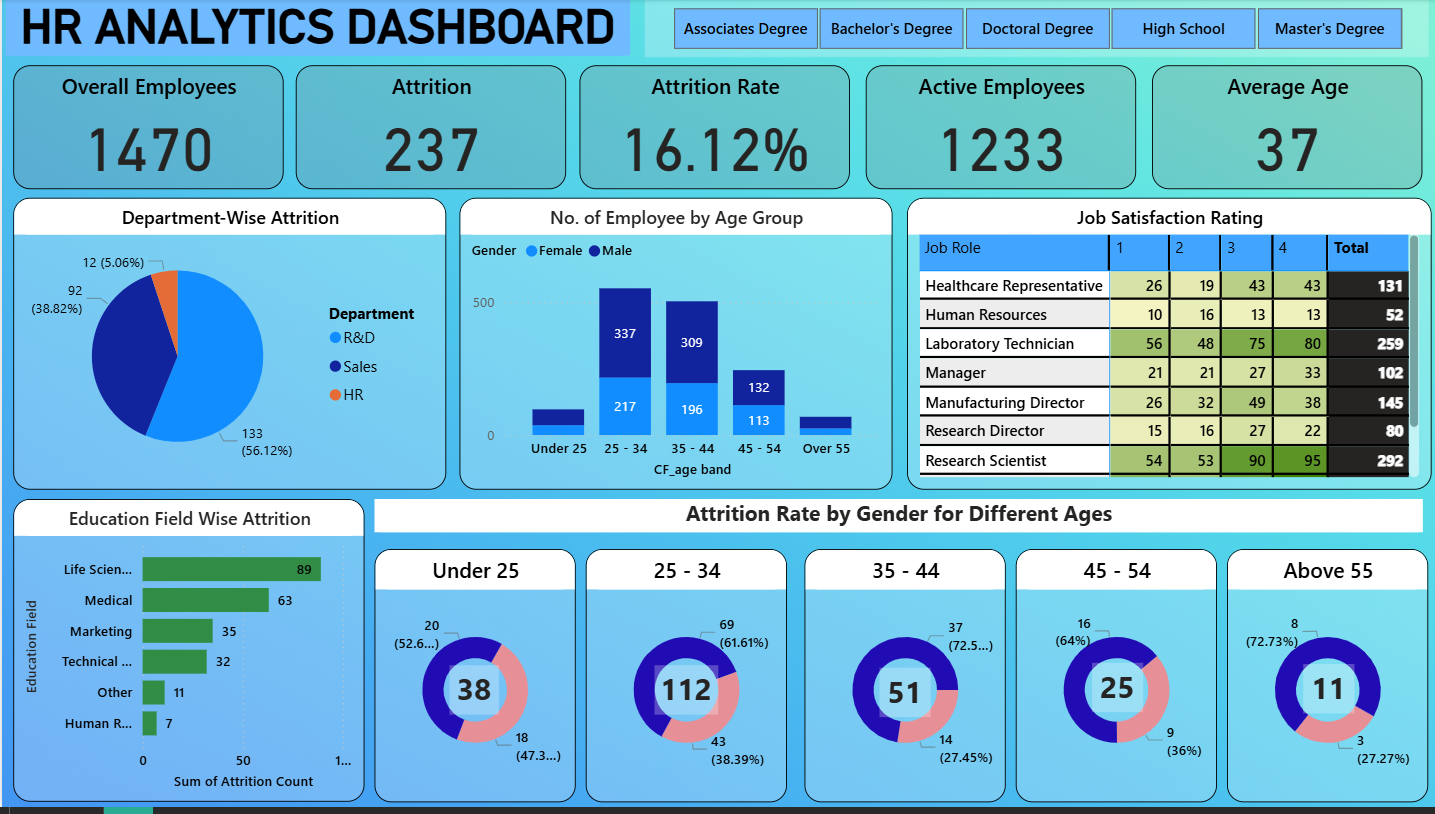

The page's visual inventory and layout, read from the dashboard file:
{"tool":"powerbi","page":{"name":"Page 1","canvas":[1280,720],"ordinal":0},"visuals":[{"type":"card","title":"Overall Employees","fields":{"Values":["Sum(HR data.Employee Count)"]},"box":[9.8,58.9,240.5,110.4],"z":0},{"type":"card","title":"Attrition","fields":{"Values":["Sum(HR data.Attrition Count)"]},"box":[261.4,58.9,240.5,110.4],"z":1000},{"type":"card","title":"Attrition Rate","fields":{"Values":["HR data.Attrition Rate"]},"box":[514.1,58.9,240.5,110.4],"z":2000},{"type":"card","title":"Active Employees","fields":{"Values":["HR data.Active Employees"]},"box":[769.3,58.9,240.5,110.4],"z":3000},{"type":"card","title":"Average Age","fields":{"Values":["Avg(HR data.Age)"]},"box":[1024.5,58.9,240.5,110.4],"z":4000},{"type":"pieChart","title":"Department-Wise Attrition","fields":{"Category":["HR data.Department"],"Y":["Sum(HR data.Attrition Count)"]},"box":[9.8,176.7,385.3,260.1],"z":5000},{"type":"columnChart","title":"No. of Employee by Age Group","fields":{"Category":["HR data.CF_age band"],"Y":["Sum(HR data.Employee Count)"],"Series":["HR data.Gender"]},"box":[407.4,176.7,385.3,260.1],"z":6000},{"type":"pivotTable","title":"Job Satisfaction Rating","fields":{"Rows":["HR data.Job Role"],"Columns":["HR data.Job Satisfaction"],"Values":["Sum(HR data.Employee Count)"]},"box":[806.1,176.7,467.5,260.1],"z":7000},{"type":"barChart","title":"Education Field Wise Attrition","fields":{"Category":["HR data.Education Field"],"Y":["Sum(HR data.Attrition Count)"]},"box":[9.8,445.4,312.9,269.9],"z":8000},{"type":"donutChart","title":"Under 25","fields":{"Category":["HR data.Gender"],"Y":["Sum(HR data.Attrition Count)"],"Series":["HR data.CF_age band"]},"box":[331.3,489.6,179.1,225.8],"z":9000},{"type":"textbox","title":"Attrition Rate by Gender for Different Ages","box":[331.3,445.4,933.7,29.4],"z":10000},{"type":"donutChart","title":"35 - 44","fields":{"Category":["HR data.Gender"],"Y":["Sum(HR data.Attrition Count)"],"Series":["HR data.CF_age band"]},"box":[714.1,489.6,179.1,225.8],"z":11000},{"type":"donutChart","title":"45 - 54","fields":{"Category":["HR data.Gender"],"Y":["Sum(HR data.Attrition Count)"],"Series":["HR data.CF_age band"]},"box":[903.1,489.6,179.1,225.8],"z":12000},{"type":"donutChart","title":"Above 55","fields":{"Category":["HR data.Gender"],"Y":["Sum(HR data.Attrition Count)"],"Series":["HR data.CF_age band"]},"box":[1090.8,489.6,179.1,225.8],"z":13000},{"type":"donutChart","title":"25 - 34","fields":{"Category":["HR data.Gender"],"Y":["Sum(HR data.Attrition Count)"],"Series":["HR data.CF_age band"]},"box":[520.2,489.6,179.1,225.8],"z":14000},{"type":"card","fields":{"Values":["Sum(HR data.Attrition Count)"]},"box":[398.8,593.9,44.2,44.2],"z":15000},{"type":"card","fields":{"Values":["Sum(HR data.Attrition Count)"]},"box":[1158.3,592.6,45.4,44.2],"z":16000},{"type":"card","fields":{"Values":["Sum(HR data.Attrition Count)"]},"box":[970.6,591.4,45.4,44.2],"z":17000},{"type":"card","fields":{"Values":["Sum(HR data.Attrition Count)"]},"box":[781.6,595.1,45.4,44.2],"z":18000},{"type":"card","fields":{"Values":["Sum(HR data.Attrition Count)"]},"box":[581.6,593.9,56.4,44.2],"z":19000},{"type":"textbox","title":"HR ANALYTICS DASHBOARD","box":[3.7,0,555.8,50.3],"z":20000},{"type":"slicer","fields":{"Values":["HR data.Education"]},"box":[571.8,1.2,698.2,50.3],"z":21000}]}

Visuals, with their boxes in screenshot pixels (x1, y1, x2, y2), scaled from the page's 1280x720 canvas onto the 1435x814 screenshot:
"Overall Employees" card: 11 67 281 191
"Attrition" card: 293 67 563 191
"Attrition Rate" card: 576 67 846 191
"Active Employees" card: 862 67 1132 191
"Average Age" card: 1149 67 1418 191
"Department-Wise Attrition" pieChart: 11 200 443 494
"No. of Employee by Age Group" columnChart: 457 200 889 494
"Job Satisfaction Rating" pivotTable: 904 200 1428 494
"Education Field Wise Attrition" barChart: 11 504 362 809
"Under 25" donutChart: 371 554 572 809
"Attrition Rate by Gender for Different Ages" textbox: 371 504 1418 537
"35 - 44" donutChart: 801 554 1001 809
"45 - 54" donutChart: 1012 554 1213 809
"Above 55" donutChart: 1223 554 1424 809
"25 - 34" donutChart: 583 554 784 809
card - Sum(HR data.Attrition Count): 447 671 497 721
card - Sum(HR data.Attrition Count): 1299 670 1349 720
card - Sum(HR data.Attrition Count): 1088 669 1139 719
card - Sum(HR data.Attrition Count): 876 673 927 723
card - Sum(HR data.Attrition Count): 652 671 715 721
"HR ANALYTICS DASHBOARD" textbox: 4 0 627 57
slicer - HR data.Education: 641 1 1424 58
